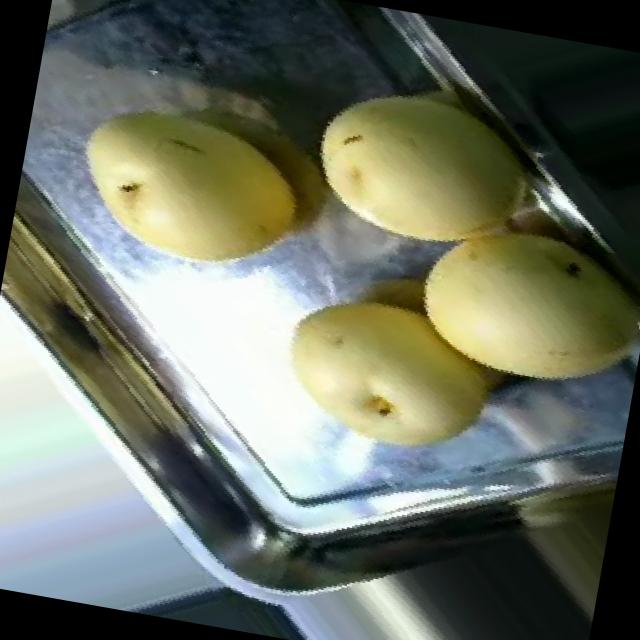Fruit: (357, 155, 640, 436), (43, 62, 344, 312), (272, 26, 550, 295), (244, 246, 542, 491)
